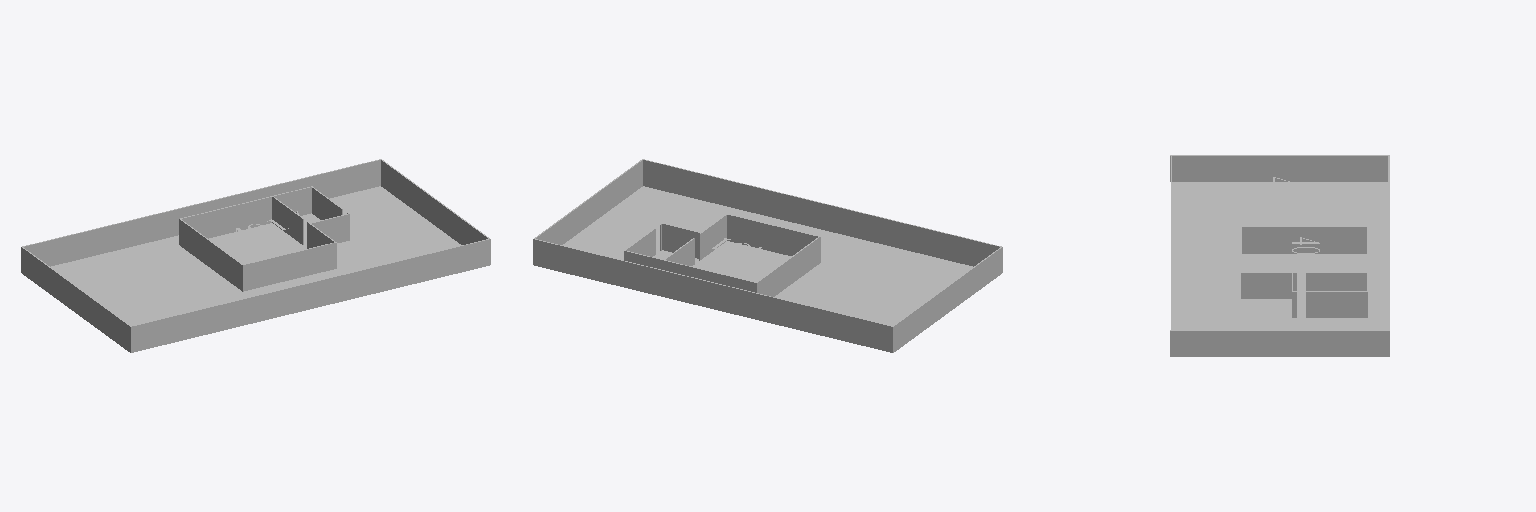
Rendered from wood4.obj.
3 views of the same model, side by side, from view 1: azimuth 30°, elevation 25°; view 2: azimuth 150°, elevation 25°; view 3: azimuth 270°, elevation 25° (orthographic).
Visible parts, largest first — view 1: pPlane1, pCube13, pCube12, pCube7, pCube11, pCube21, pCube22, pCube20, pCube18, pCube15, pCube14, pCube16; view 2: pPlane1, pCube12, pCube13, pCube7, pCube11, pCube21, pCube20, pCube22, pCube15, pCube19; view 3: pPlane1, pCube11, pCube7, pCube20, pCube16, pCube19, pCube18.
Boxes of the visible parts, x1=… form: pPlane1: x1=51, y1=186, x2=460, y2=325; pCube13: x1=132, y1=239, x2=489, y2=352; pCube12: x1=22, y1=159, x2=380, y2=266; pCube7: x1=21, y1=247, x2=131, y2=352; pCube11: x1=381, y1=159, x2=490, y2=264; pCube21: x1=243, y1=242, x2=335, y2=290; pCube22: x1=180, y1=196, x2=272, y2=238; pCube20: x1=179, y1=219, x2=243, y2=291; pCube18: x1=272, y1=196, x2=303, y2=244; pCube15: x1=309, y1=214, x2=349, y2=247; pCube14: x1=274, y1=187, x2=311, y2=215; pCube16: x1=311, y1=186, x2=342, y2=219; pPlane1: x1=562, y1=186, x2=972, y2=325; pCube12: x1=533, y1=239, x2=892, y2=352; pCube13: x1=642, y1=159, x2=1001, y2=266; pCube7: x1=892, y1=247, x2=1002, y2=352; pCube11: x1=534, y1=160, x2=642, y2=244; pCube21: x1=727, y1=214, x2=818, y2=255; pCube20: x1=756, y1=236, x2=820, y2=296; pCube22: x1=664, y1=260, x2=756, y2=292; pCube15: x1=661, y1=223, x2=700, y2=258; pCube19: x1=699, y1=214, x2=726, y2=260; pPlane1: x1=1172, y1=182, x2=1387, y2=329; pCube11: x1=1170, y1=330, x2=1389, y2=356; pCube7: x1=1170, y1=155, x2=1389, y2=181; pCube20: x1=1242, y1=227, x2=1366, y2=253; pCube16: x1=1306, y1=291, x2=1367, y2=317; pCube19: x1=1241, y1=272, x2=1296, y2=298; pCube18: x1=1306, y1=272, x2=1366, y2=290.
Size of the model in its own units: 2864 by 201 by 1508.